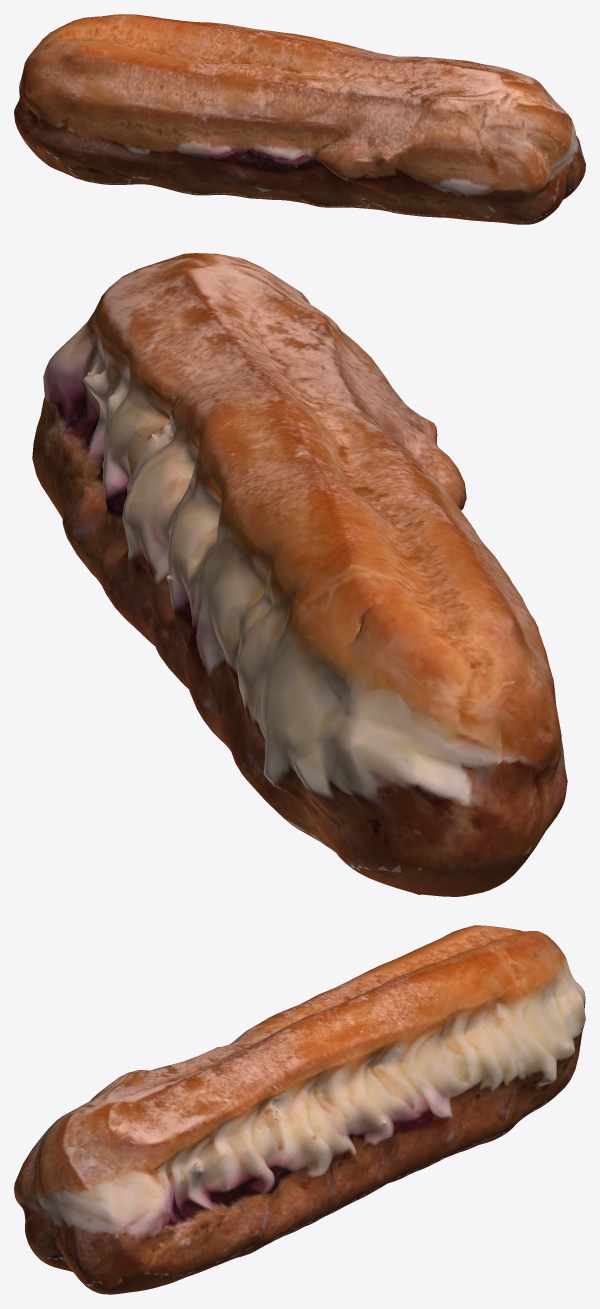
File: eclaire_9418.obj
3 views of the same model, one above another, from view 1: azimuth 30°, elevation 25°; view 2: azimuth 150°, elevation 25°; view 3: azimuth 270°, elevation 25° (orthographic). The views are drawn at different scales.
Size of the model in its own units: 93.82 by 31.6 by 91.3.
1 material, 1 textured.
